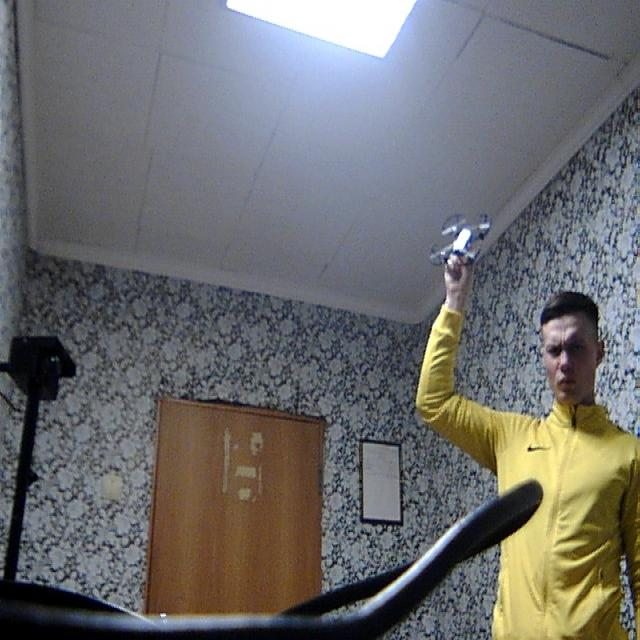drone: (425, 211, 492, 276)
